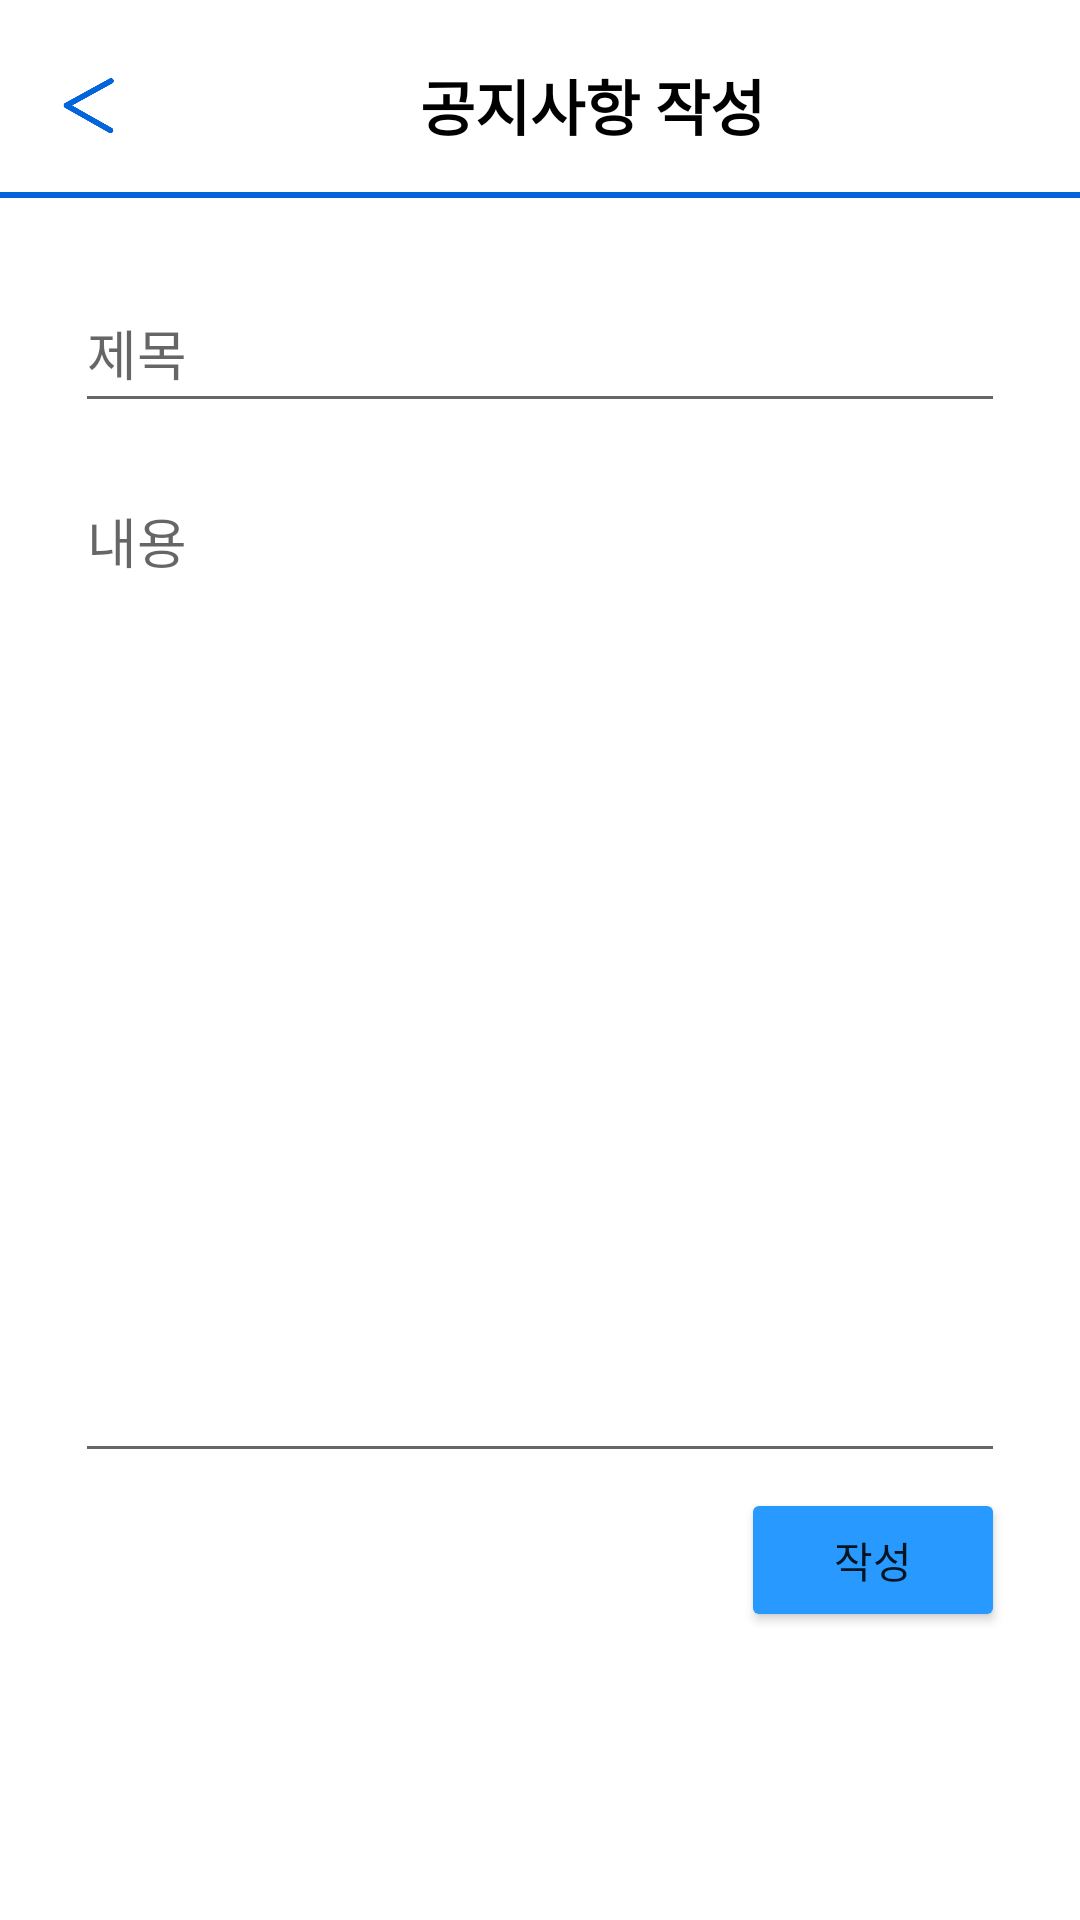

Named icons in this screenshot (1080 x 1920) and their centers, (x=x, y=y):
left: (x=88, y=105)
